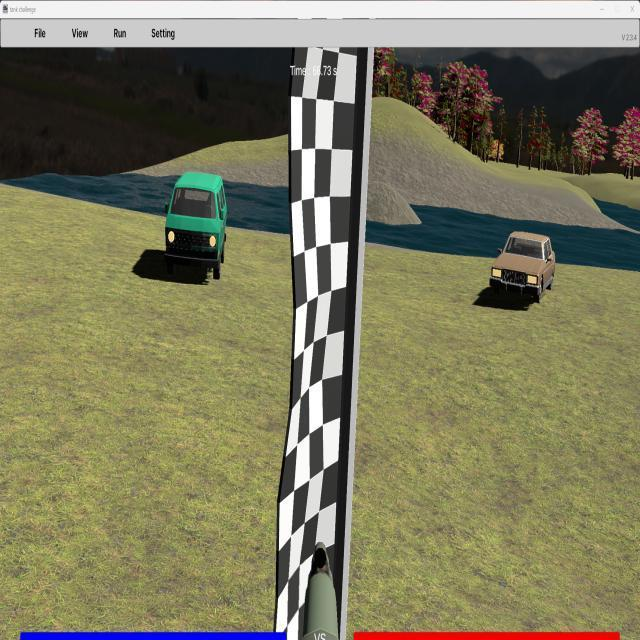car: (164, 171, 227, 279), (489, 230, 555, 303)
